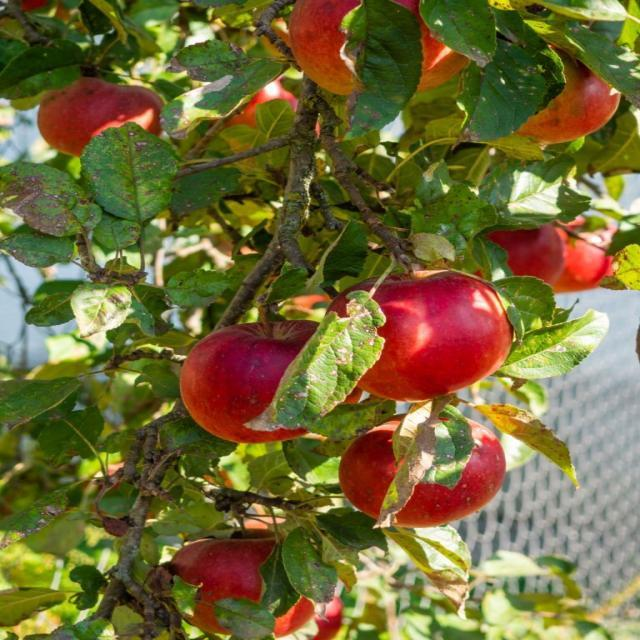Red Apple: (340, 271, 509, 391), (186, 322, 340, 436), (357, 415, 501, 526), (288, 1, 461, 92), (186, 530, 317, 625), (502, 210, 621, 290), (521, 46, 624, 138), (56, 79, 173, 150), (281, 584, 341, 640), (228, 89, 275, 145), (9, 1, 57, 28)
